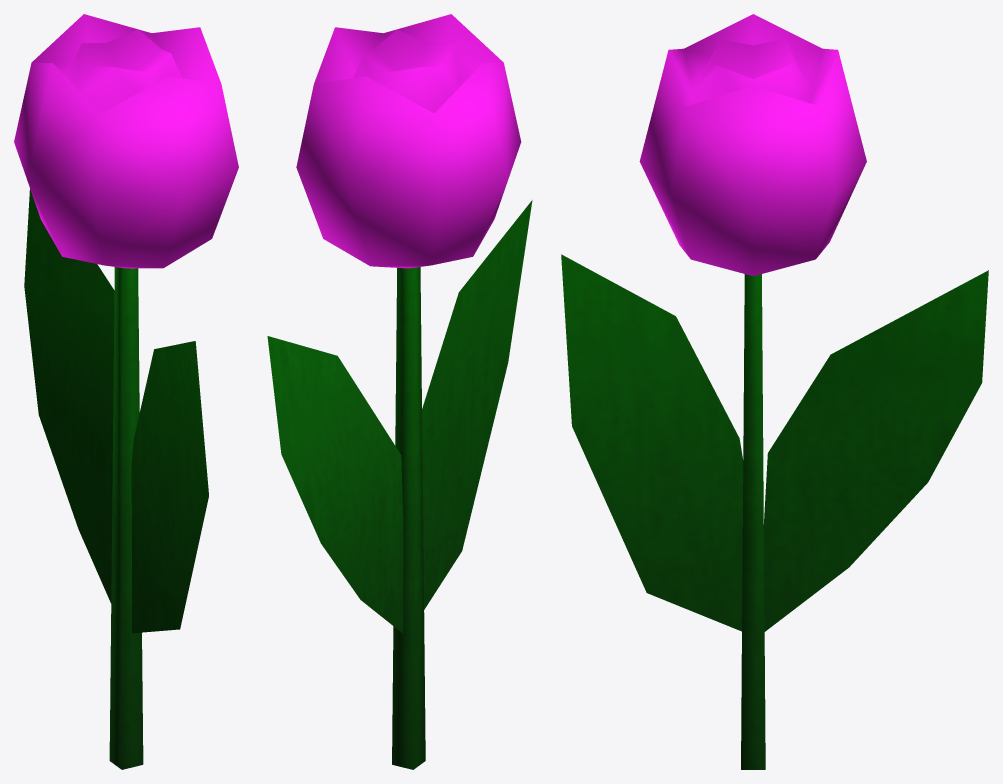
The model's file is turnip.001.fbx.
3 renders of one model, left to right at view 1: azimuth 30°, elevation 25°; view 2: azimuth 150°, elevation 25°; view 3: azimuth 270°, elevation 25°, orthographic.
Visible parts, largest first — view 1: turnip.001; view 2: turnip.001; view 3: turnip.001.
Boxes of the visible parts, <box> form: turnip.001: <box>14,14,238,769</box>; turnip.001: <box>267,14,532,769</box>; turnip.001: <box>561,14,988,769</box>.
Size of the model in its own units: 0.1378 by 0.4783 by 0.2594.
